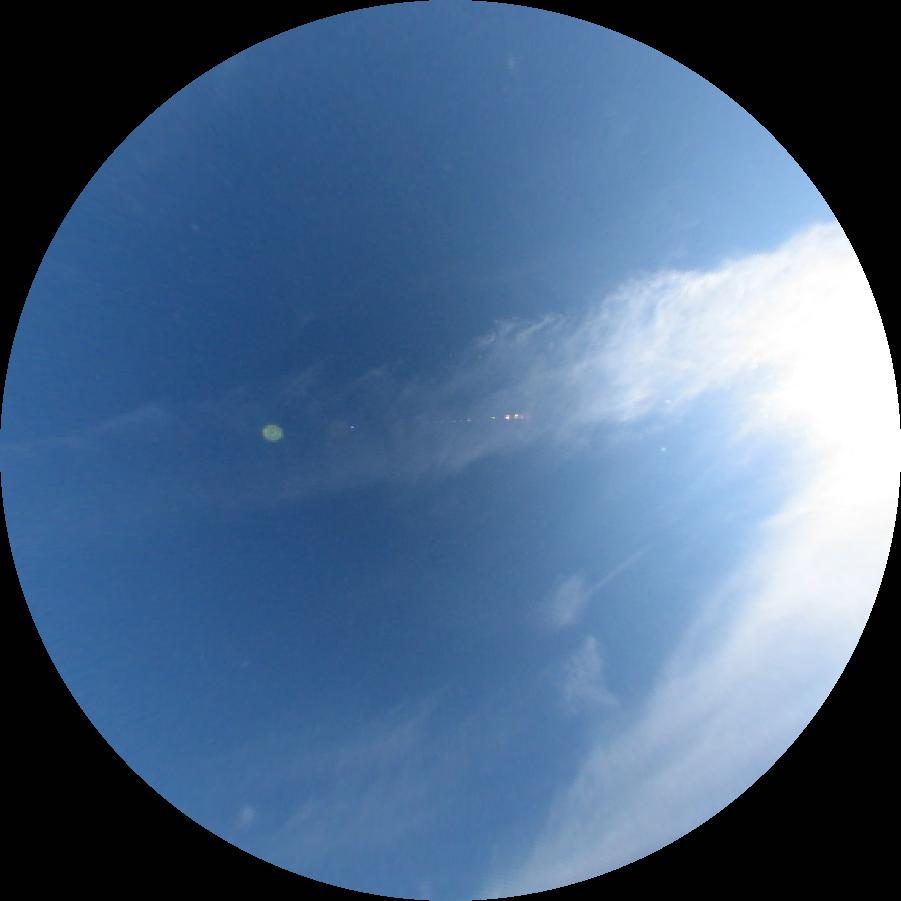contrail veryold: (225, 226, 836, 507), (551, 567, 621, 716)
unknow: (584, 551, 642, 601)
